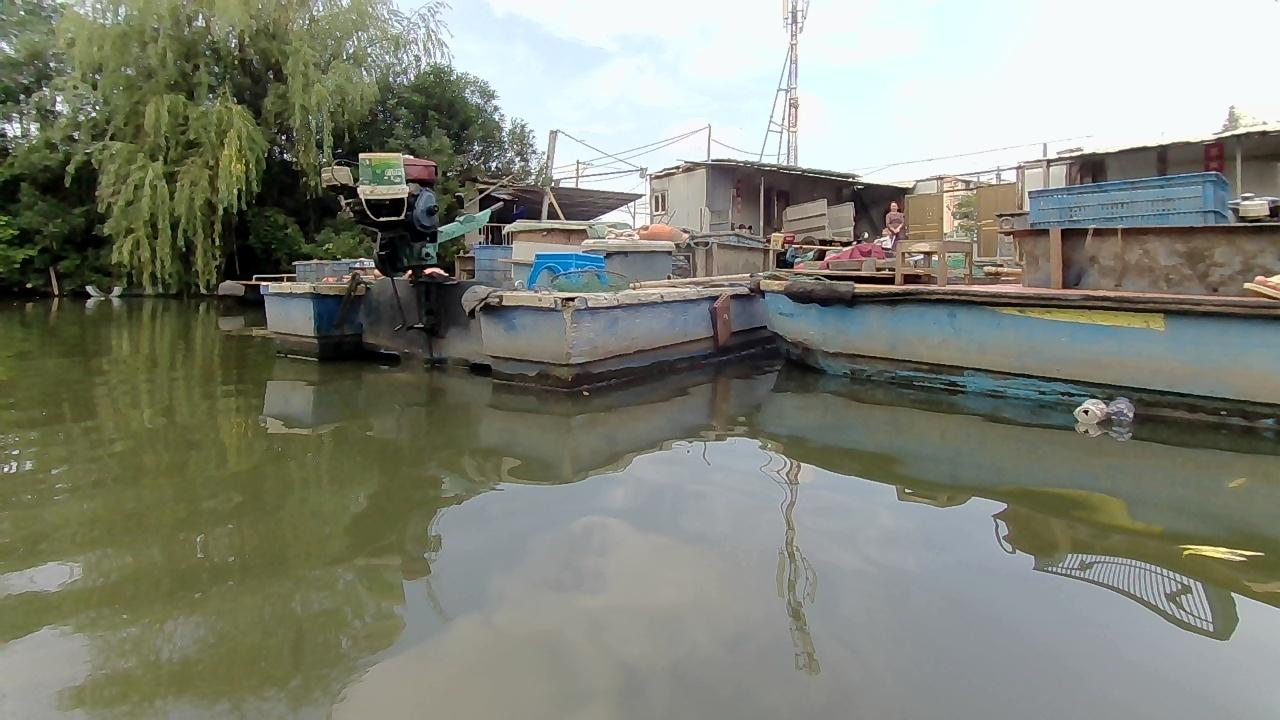bottle: (1105, 397, 1132, 429), (1076, 400, 1101, 427)
